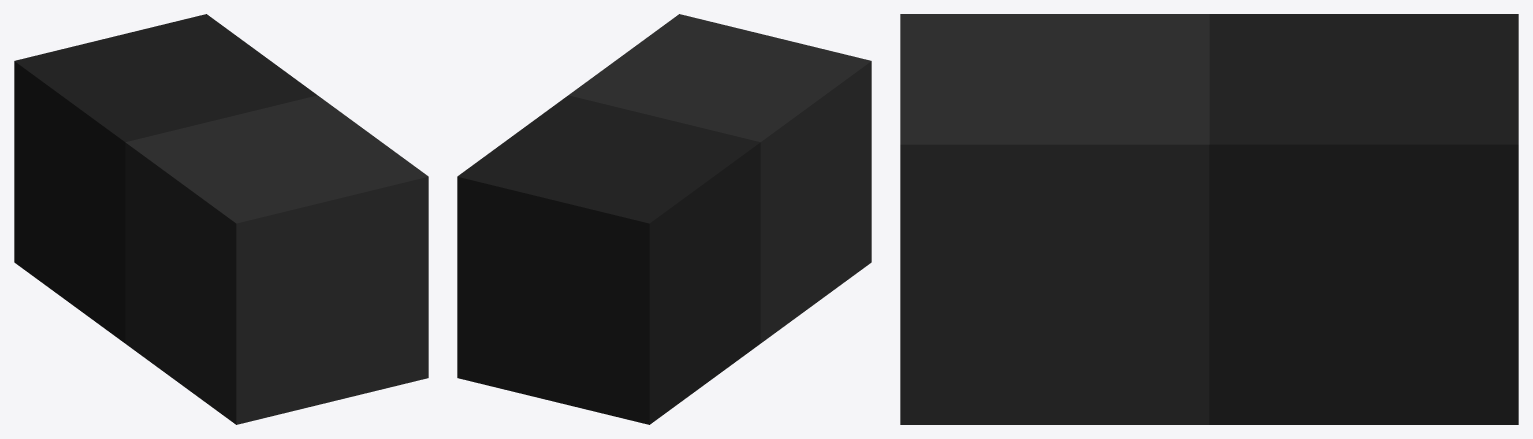
Rendered from BombPort1.obj.
3 renders of one model, left to right at view 1: azimuth 30°, elevation 25°; view 2: azimuth 150°, elevation 25°; view 3: azimuth 270°, elevation 25°, orthographic. The views are drawn at different scales.
Bounding box in the file's own units: 0.1 × 0.1 × 0.2.
1 material, 1 textured.
